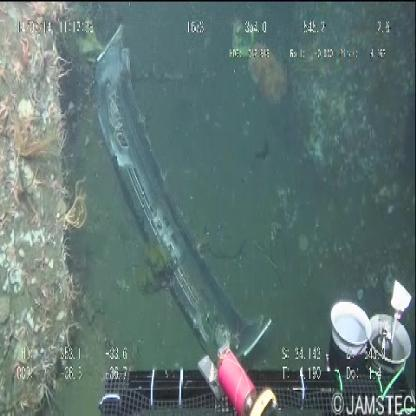Rov: (86, 274, 416, 411)
Rác: (87, 25, 274, 354)
